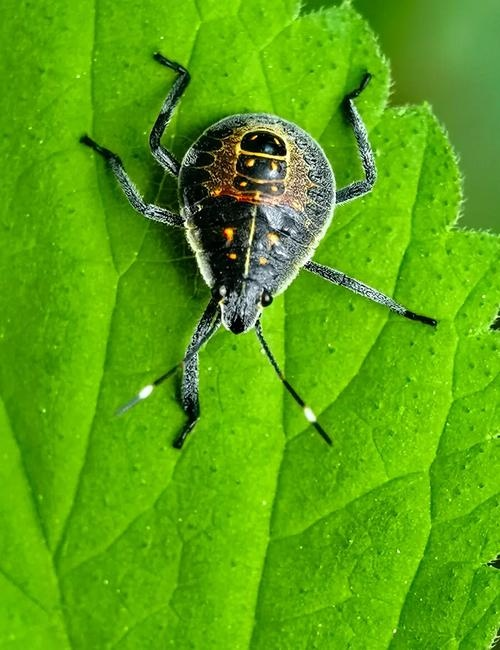Stink_Bug: (152, 74, 332, 330)
